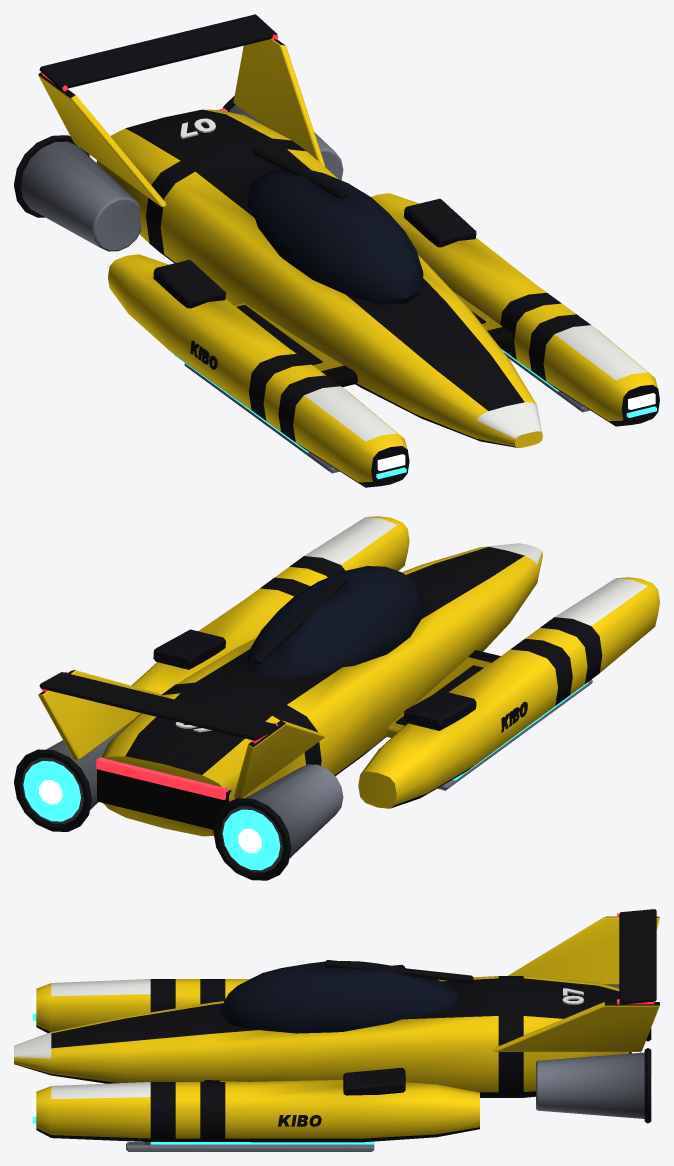
Rendered from hovercar.glb.
The picture shows the model from 3 angles, top to bottom: view 1: azimuth 30°, elevation 25°; view 2: azimuth 150°, elevation 25°; view 3: azimuth 270°, elevation 25°; orthographic projection. The views are drawn at different scales.
Parts seen in each view (by area): view 1: HoverCar; view 2: HoverCar; view 3: HoverCar.
Part boxes in pixels (x1=…): HoverCar: x1=14, y1=14, x2=659, y2=487; HoverCar: x1=14, y1=516, x2=659, y2=880; HoverCar: x1=14, y1=909, x2=659, y2=1151.
Size of what is drawn, in the model's own units: 2.44 by 1.29 by 5.2.
Materials: 1 (1 with a texture image).
